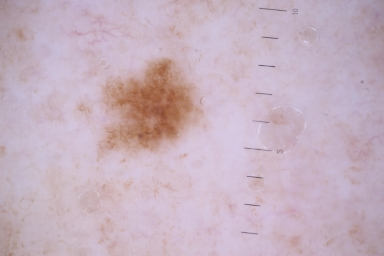melanoma: (105, 60, 205, 157)
